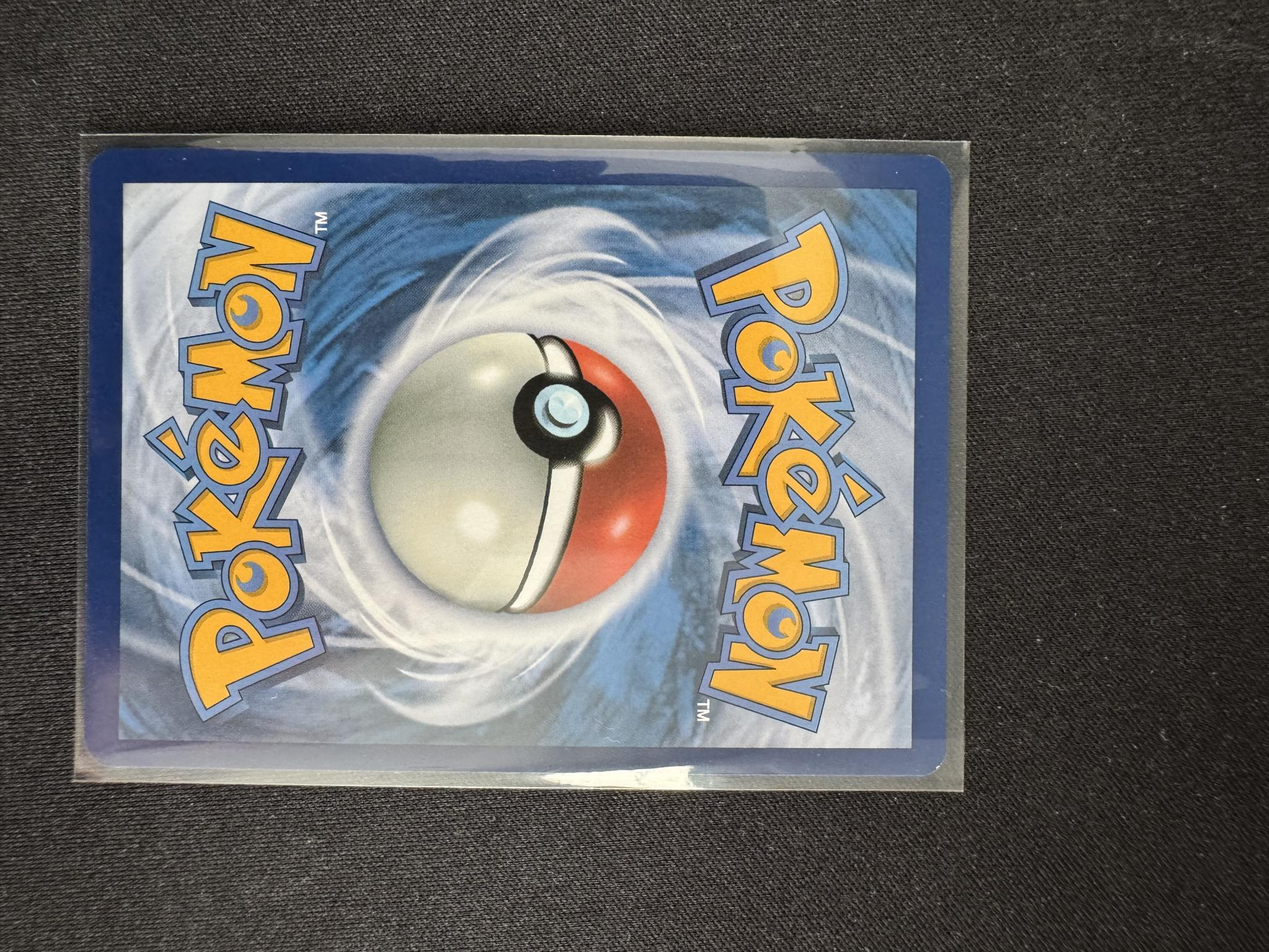card-2UtV: (84, 147, 951, 776)
